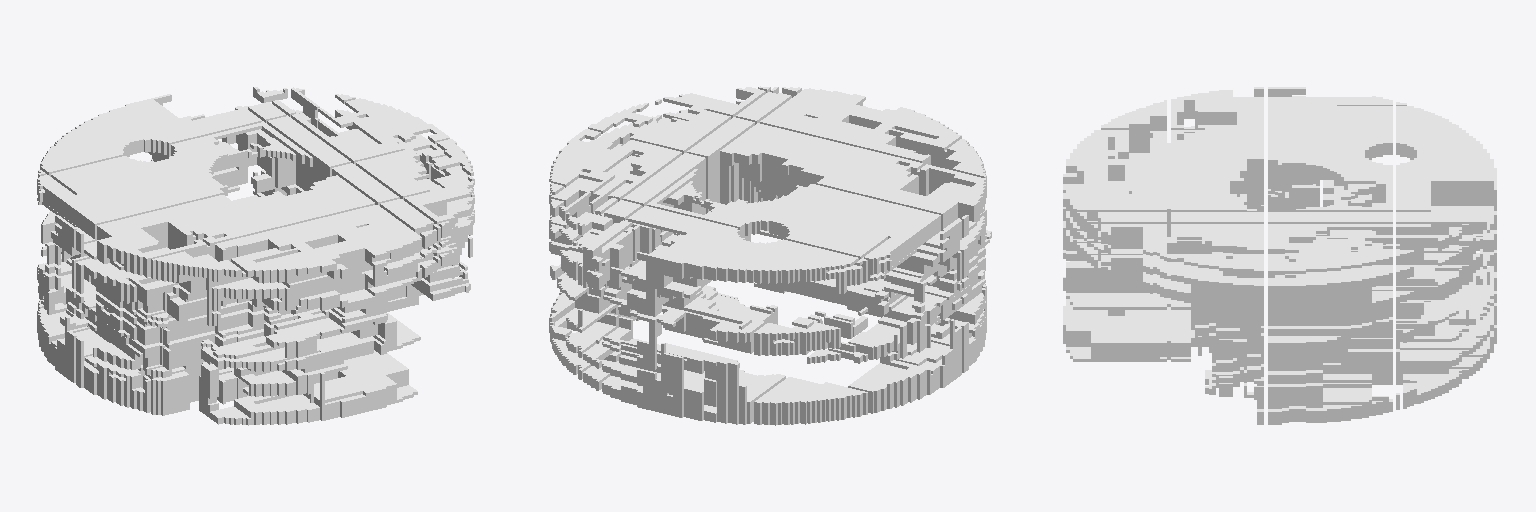
3 renders of one model, left to right at view 1: azimuth 30°, elevation 25°; view 2: azimuth 150°, elevation 25°; view 3: azimuth 270°, elevation 25°, orthographic.
Parts seen in each view (by area): view 1: 金属; view 2: 金属; view 3: 金属.
Part boxes in pixels (x1,y1,x2,y2): 金属: (37, 87, 474, 425); 金属: (549, 86, 991, 425); 金属: (1063, 87, 1496, 424).
Bounding box in the file's own units: 125 × 49 × 125.